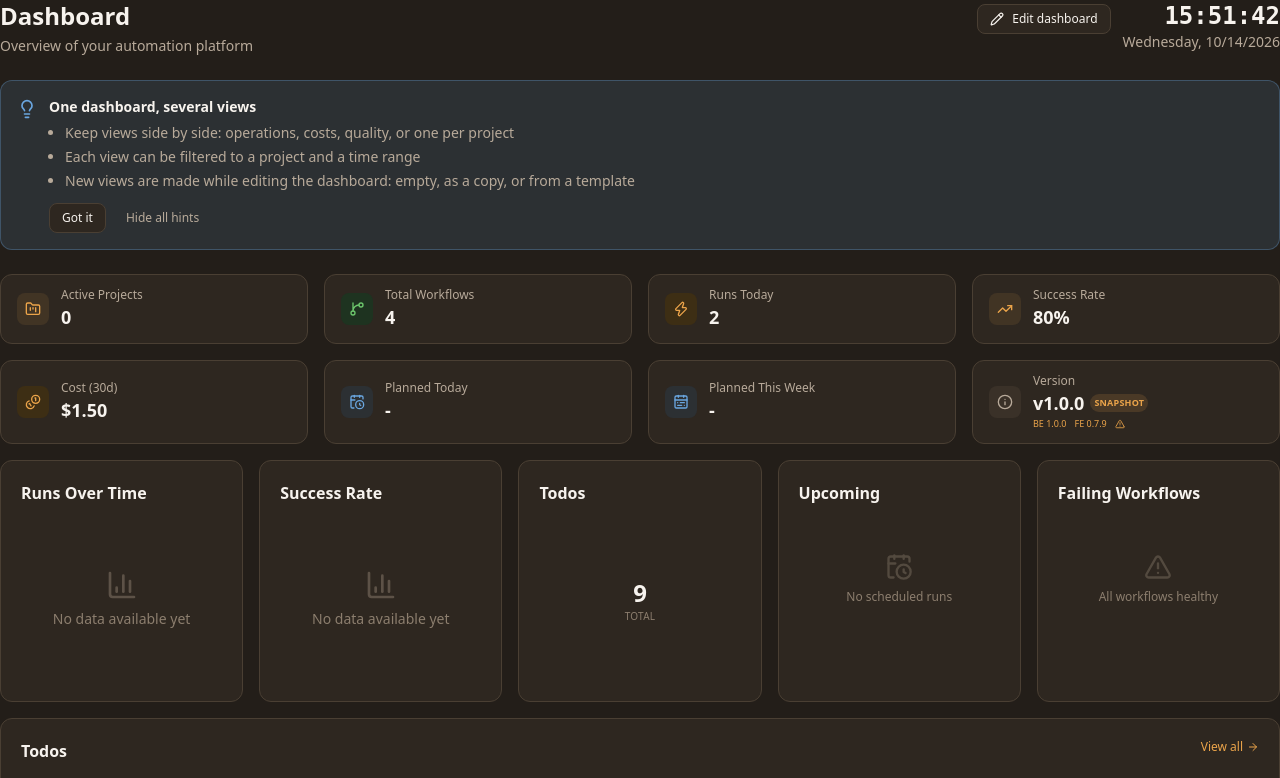
Test: Dashboard layout › leaves out widgets of modules the backend reports disabled, also in edit mode
This screenshot has width=1280, height=778.
Click the button "Edit dashboard" at coordinates (1044, 19), box [977,4,1111,34]
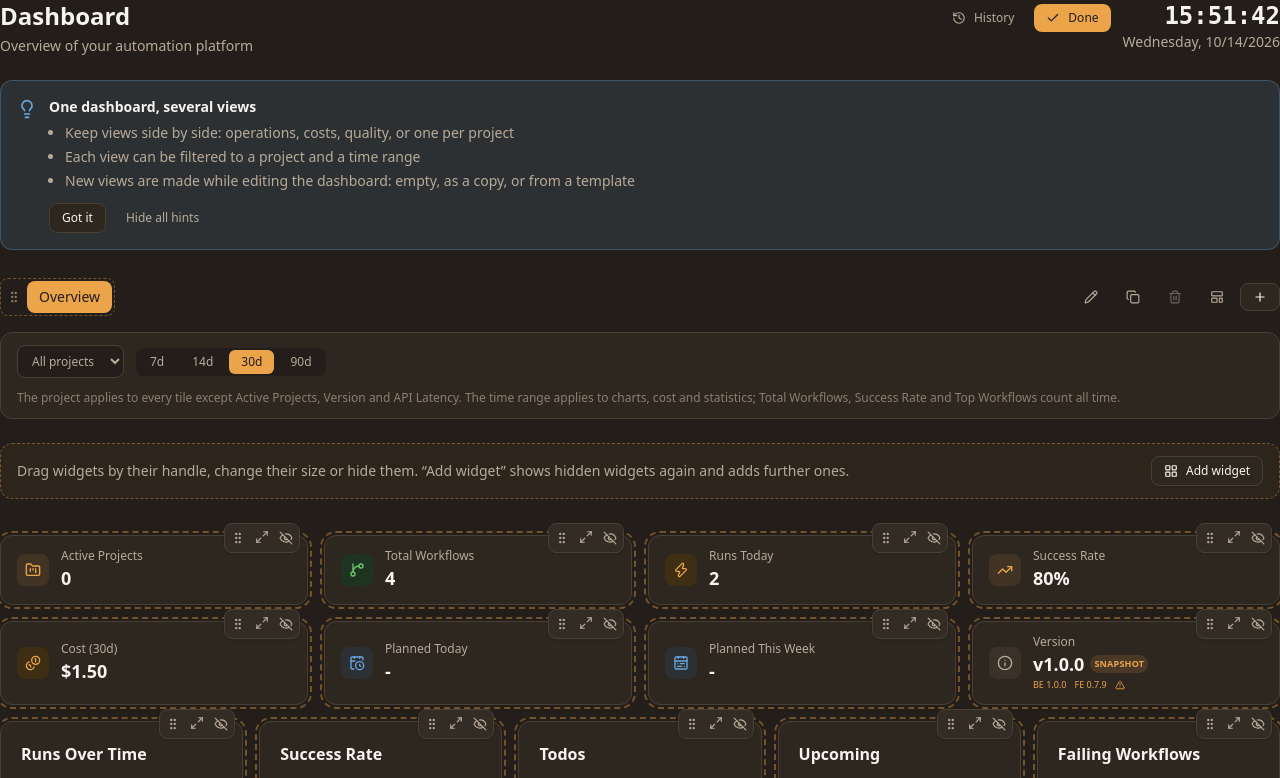
Click the button "Add widget" at coordinates (1207, 471), box [1151,456,1263,486]
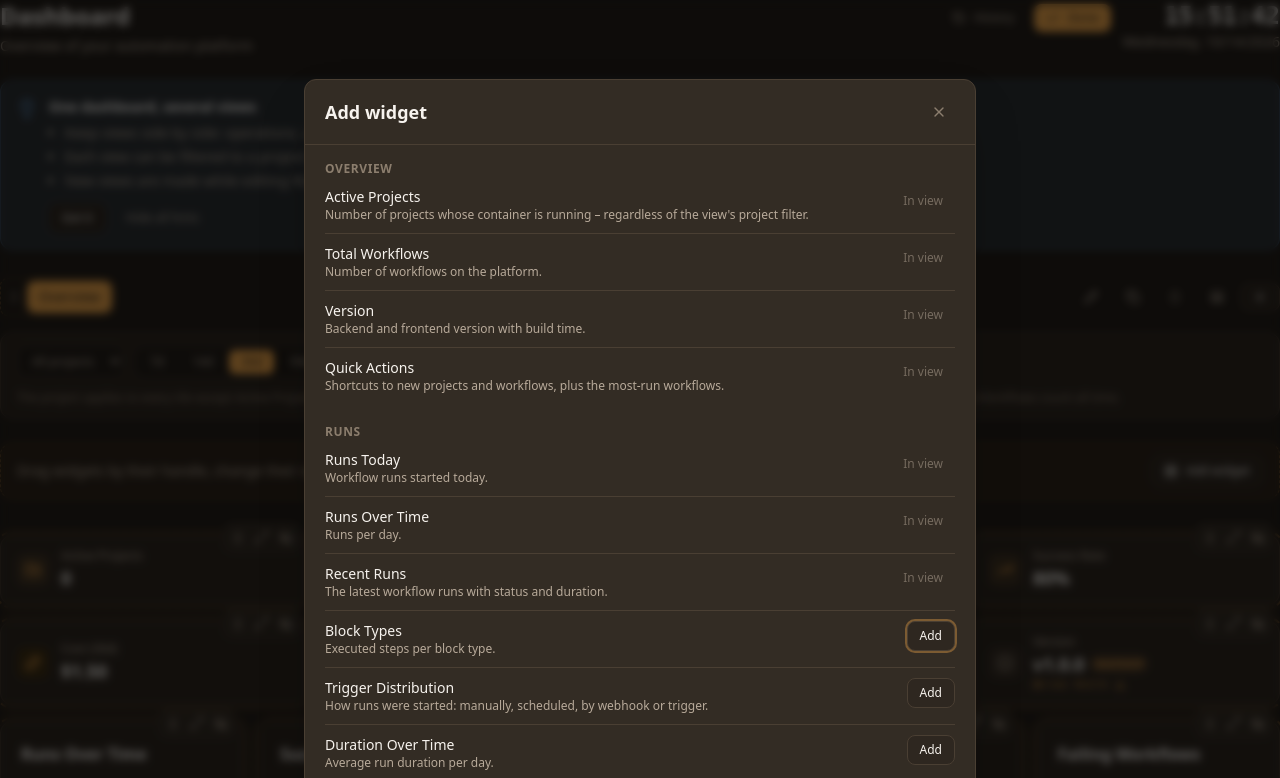
Result: the text "Runs Over Time" is shown at [325,507,429,527]
